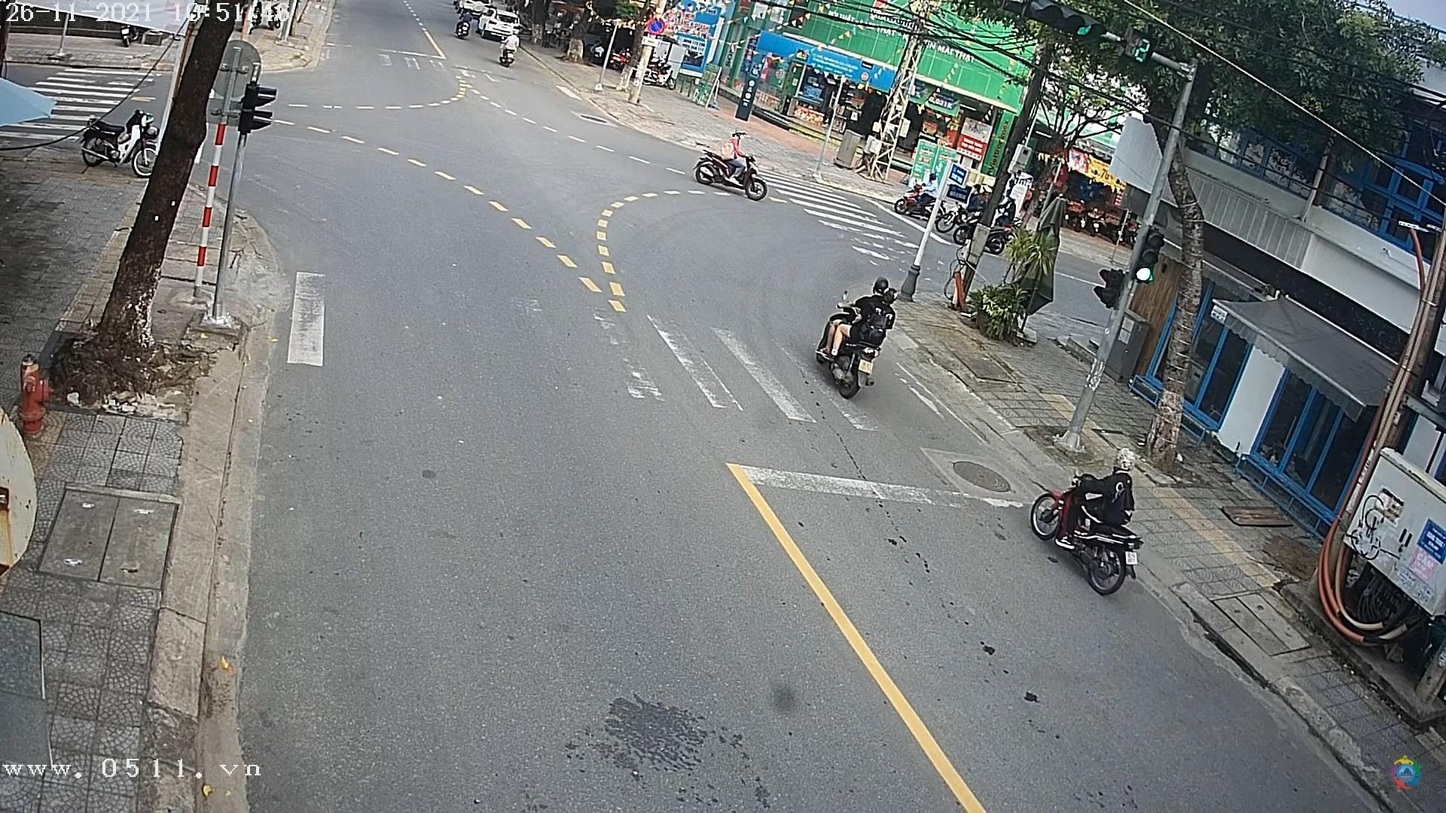motorbike: (1030, 465, 1145, 595), (812, 291, 885, 400), (692, 151, 762, 199)
